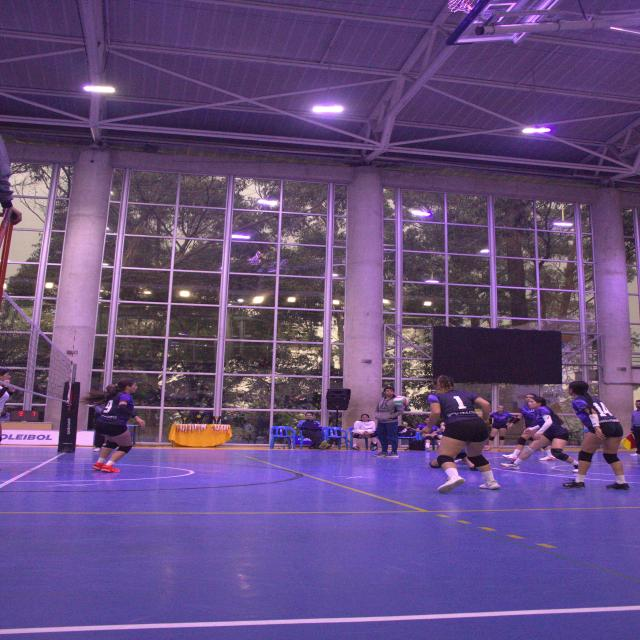volleyball: (394, 395, 409, 408)
